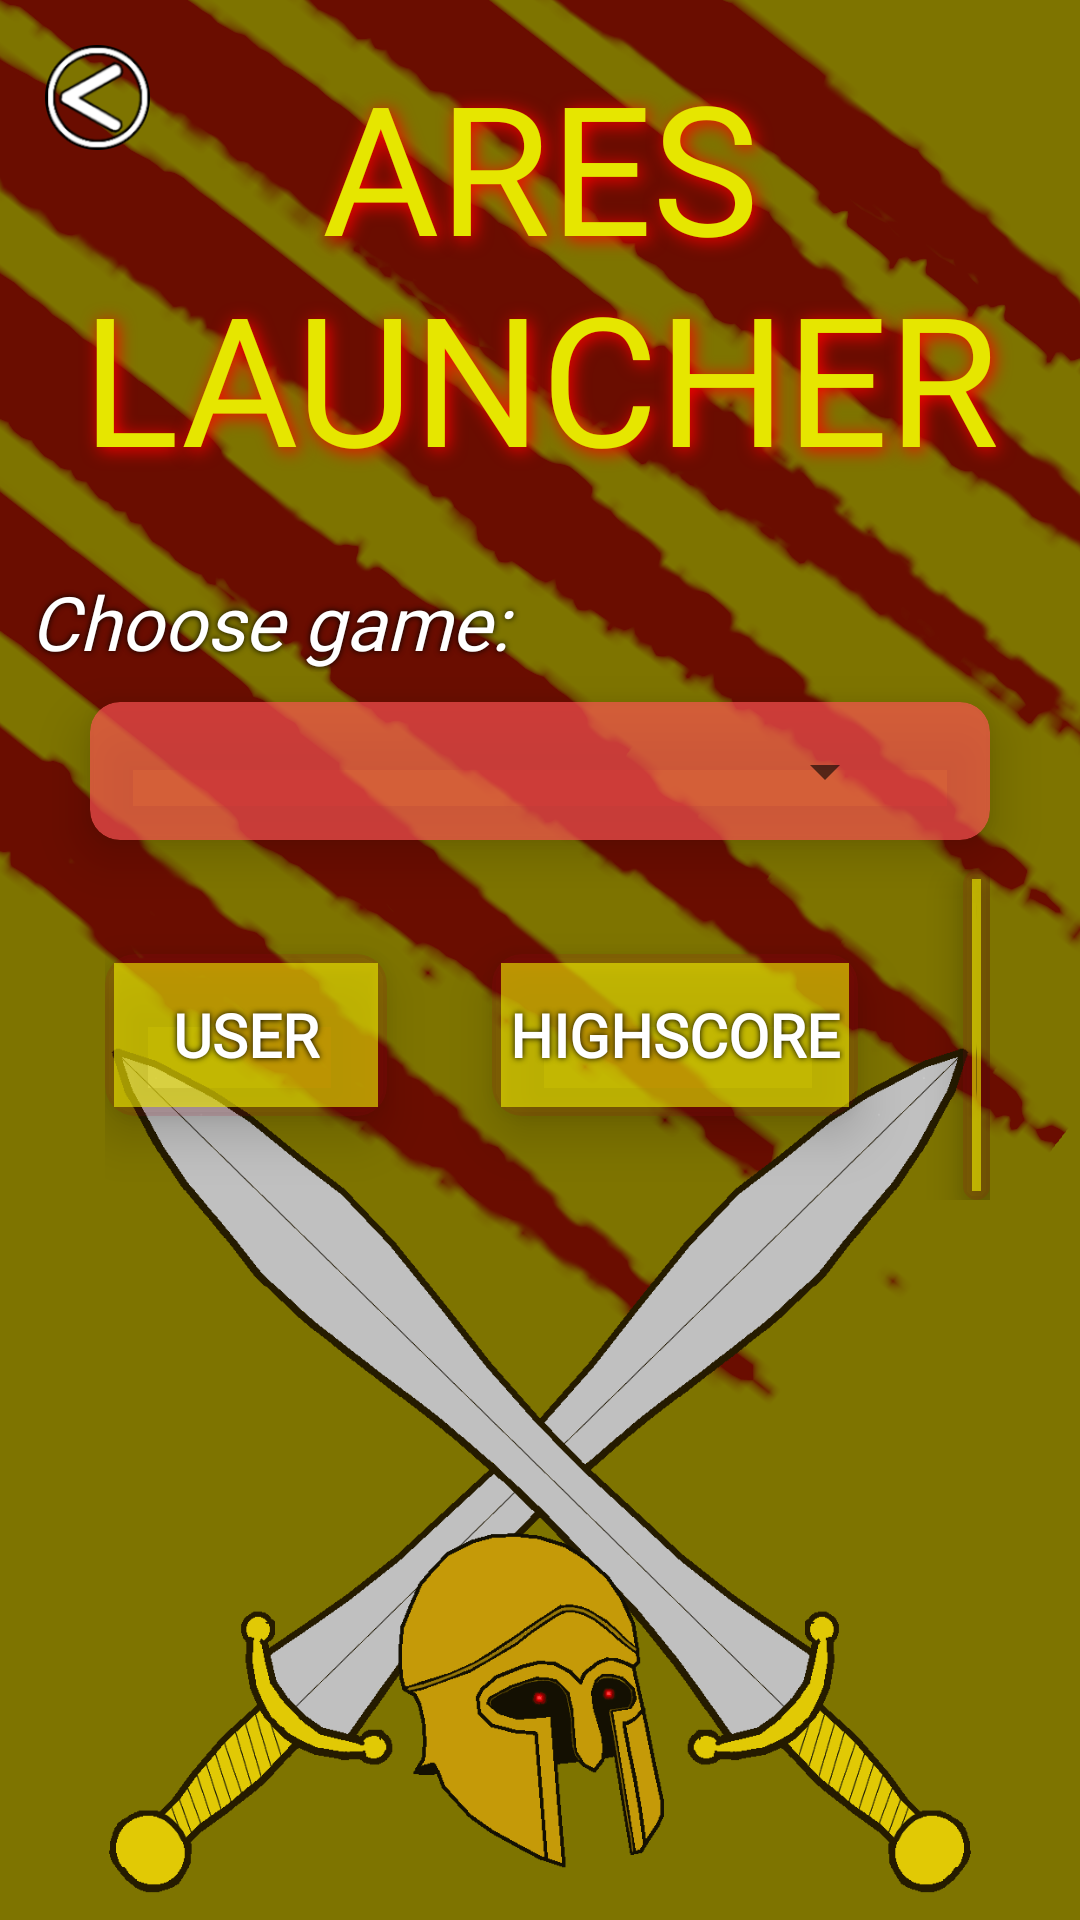

Icon bounding boxes for this 1080*1920 phone screenshot, format (x1,y1,x2,y2):
back: (45,45,150,150)
